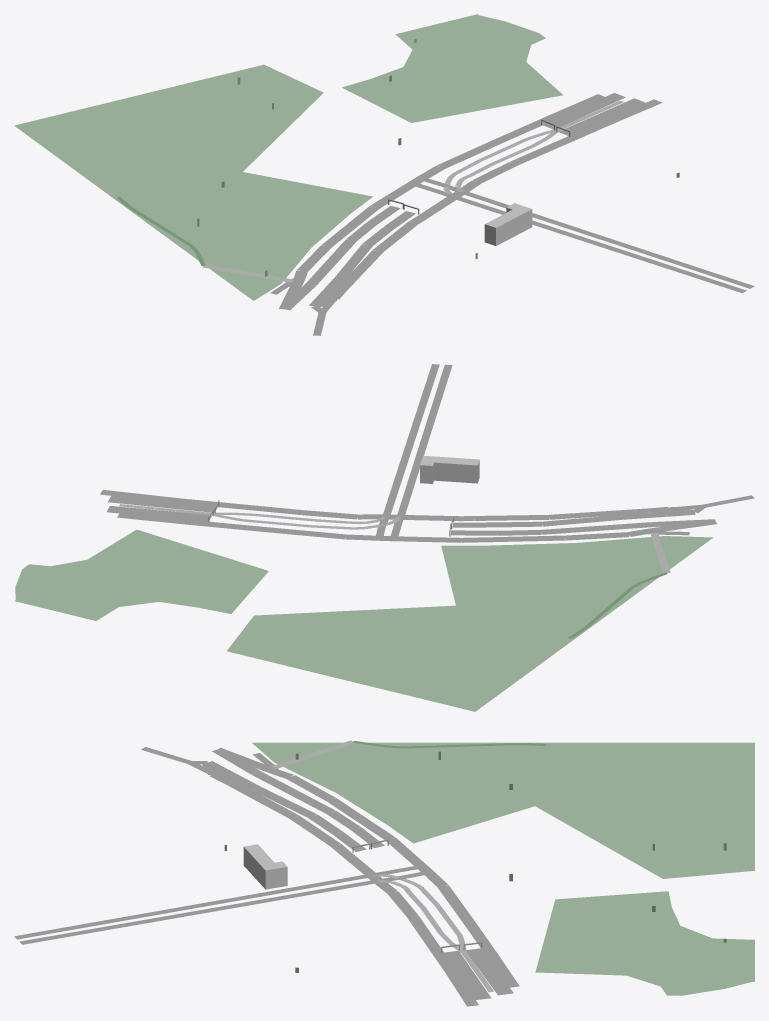
3 views of the same model, one above another, from view 1: azimuth 30°, elevation 25°; view 2: azimuth 150°, elevation 25°; view 3: azimuth 270°, elevation 25° (orthographic). The views are drawn at different scales.
Size of the model in its own units: 526 by 18.69 by 623.
